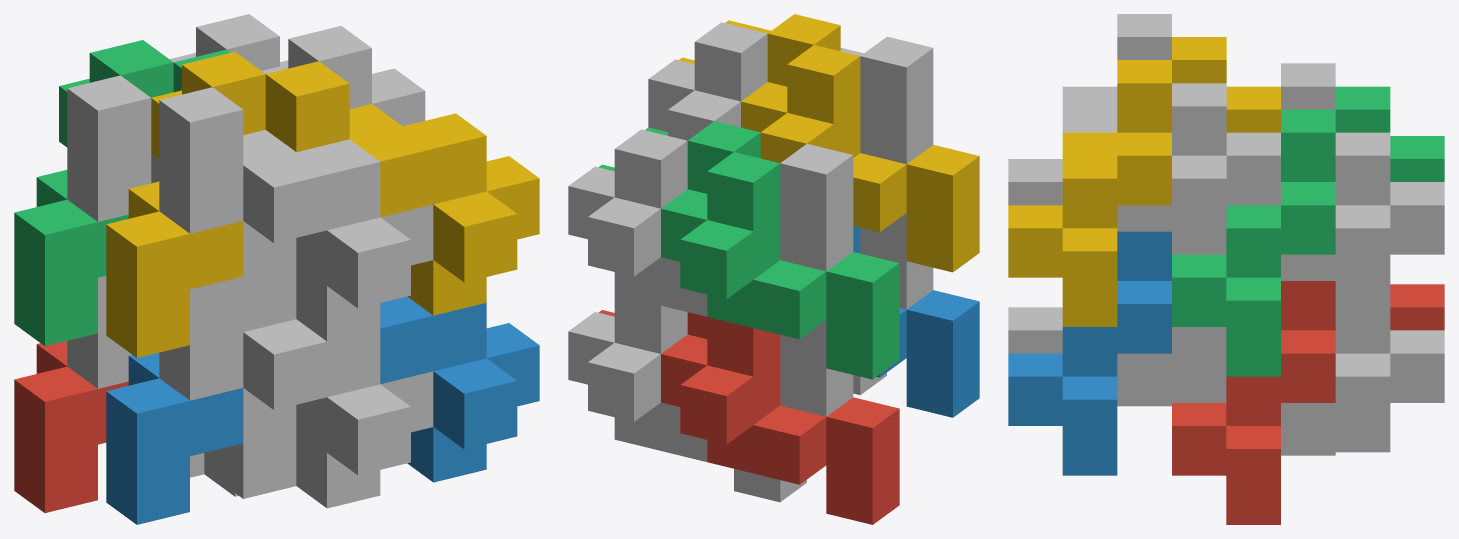
File: tiling.obj
3 views of the same model, side by side, from view 1: azimuth 30°, elevation 25°; view 2: azimuth 150°, elevation 25°; view 3: azimuth 270°, elevation 25° (orthographic). The views are drawn at different scales.
Visible parts, largest first — view 1: copy_2_domain_4, copy_2_domain_2, copy_2_domain_8, copy_1_domain_4, copy_2_domain_6, copy_1_domain_3, copy_1_domain_2, copy_1_domain_1, copy_1_domain_8, copy_2_domain_3, copy_1_domain_6, copy_2_domain_1 (+1 smaller); view 2: copy_1_domain_3, copy_1_domain_1, copy_1_domain_4, copy_1_domain_7, copy_1_domain_5, copy_1_domain_8, copy_1_domain_2, copy_2_domain_4, copy_2_domain_3, copy_2_domain_1, copy_2_domain_8, copy_2_domain_7 (+2 smaller); view 3: copy_2_domain_8, copy_2_domain_7, copy_2_domain_6, copy_2_domain_5, copy_1_domain_5, copy_1_domain_7, copy_1_domain_8, copy_2_domain_4, copy_1_domain_6, copy_1_domain_4, copy_1_domain_3, copy_1_domain_1 (+2 smaller).
Part boxes in pixels (box(x1,y1,x2,y2)): copy_2_domain_4: box(159, 87, 433, 341); copy_2_domain_2: box(159, 276, 433, 508); copy_2_domain_8: box(265, 61, 539, 315); copy_1_domain_4: box(106, 52, 265, 357); copy_2_domain_6: box(380, 296, 539, 482); copy_1_domain_3: box(14, 40, 173, 346); copy_1_domain_2: box(106, 353, 243, 524); copy_1_domain_1: box(14, 341, 128, 512); copy_1_domain_8: box(243, 26, 425, 331); copy_2_domain_3: box(67, 75, 159, 221); copy_1_domain_6: box(212, 388, 296, 498); copy_2_domain_1: box(67, 276, 238, 496); copy_1_domain_3: box(661, 152, 899, 379); copy_1_domain_1: box(661, 317, 899, 524); copy_1_domain_4: box(741, 45, 979, 272); copy_1_domain_7: box(568, 129, 707, 316); copy_1_domain_5: box(568, 294, 806, 502); copy_1_domain_8: box(648, 22, 767, 140); copy_1_domain_2: box(853, 226, 979, 417); copy_2_domain_4: box(840, 36, 933, 164); copy_2_domain_3: box(780, 144, 853, 271); copy_2_domain_1: box(780, 320, 853, 416); copy_2_domain_8: box(679, 14, 840, 86); copy_2_domain_7: box(599, 121, 760, 193); copy_2_domain_8: box(1008, 60, 1171, 326); copy_2_domain_7: box(1172, 109, 1335, 376); copy_2_domain_6: box(1008, 231, 1171, 475); copy_2_domain_5: box(1172, 281, 1335, 524); copy_1_domain_5: box(1281, 304, 1444, 455); copy_1_domain_7: box(1281, 132, 1444, 303); copy_1_domain_8: box(1117, 83, 1280, 254); copy_2_domain_4: box(1008, 14, 1171, 205); copy_1_domain_6: box(1117, 327, 1226, 406); copy_1_domain_4: box(1172, 37, 1280, 132); copy_1_domain_3: box(1335, 86, 1444, 181); copy_1_domain_1: box(1390, 284, 1444, 330).
Bounding box in the file's own units: 7 × 8 × 8.
